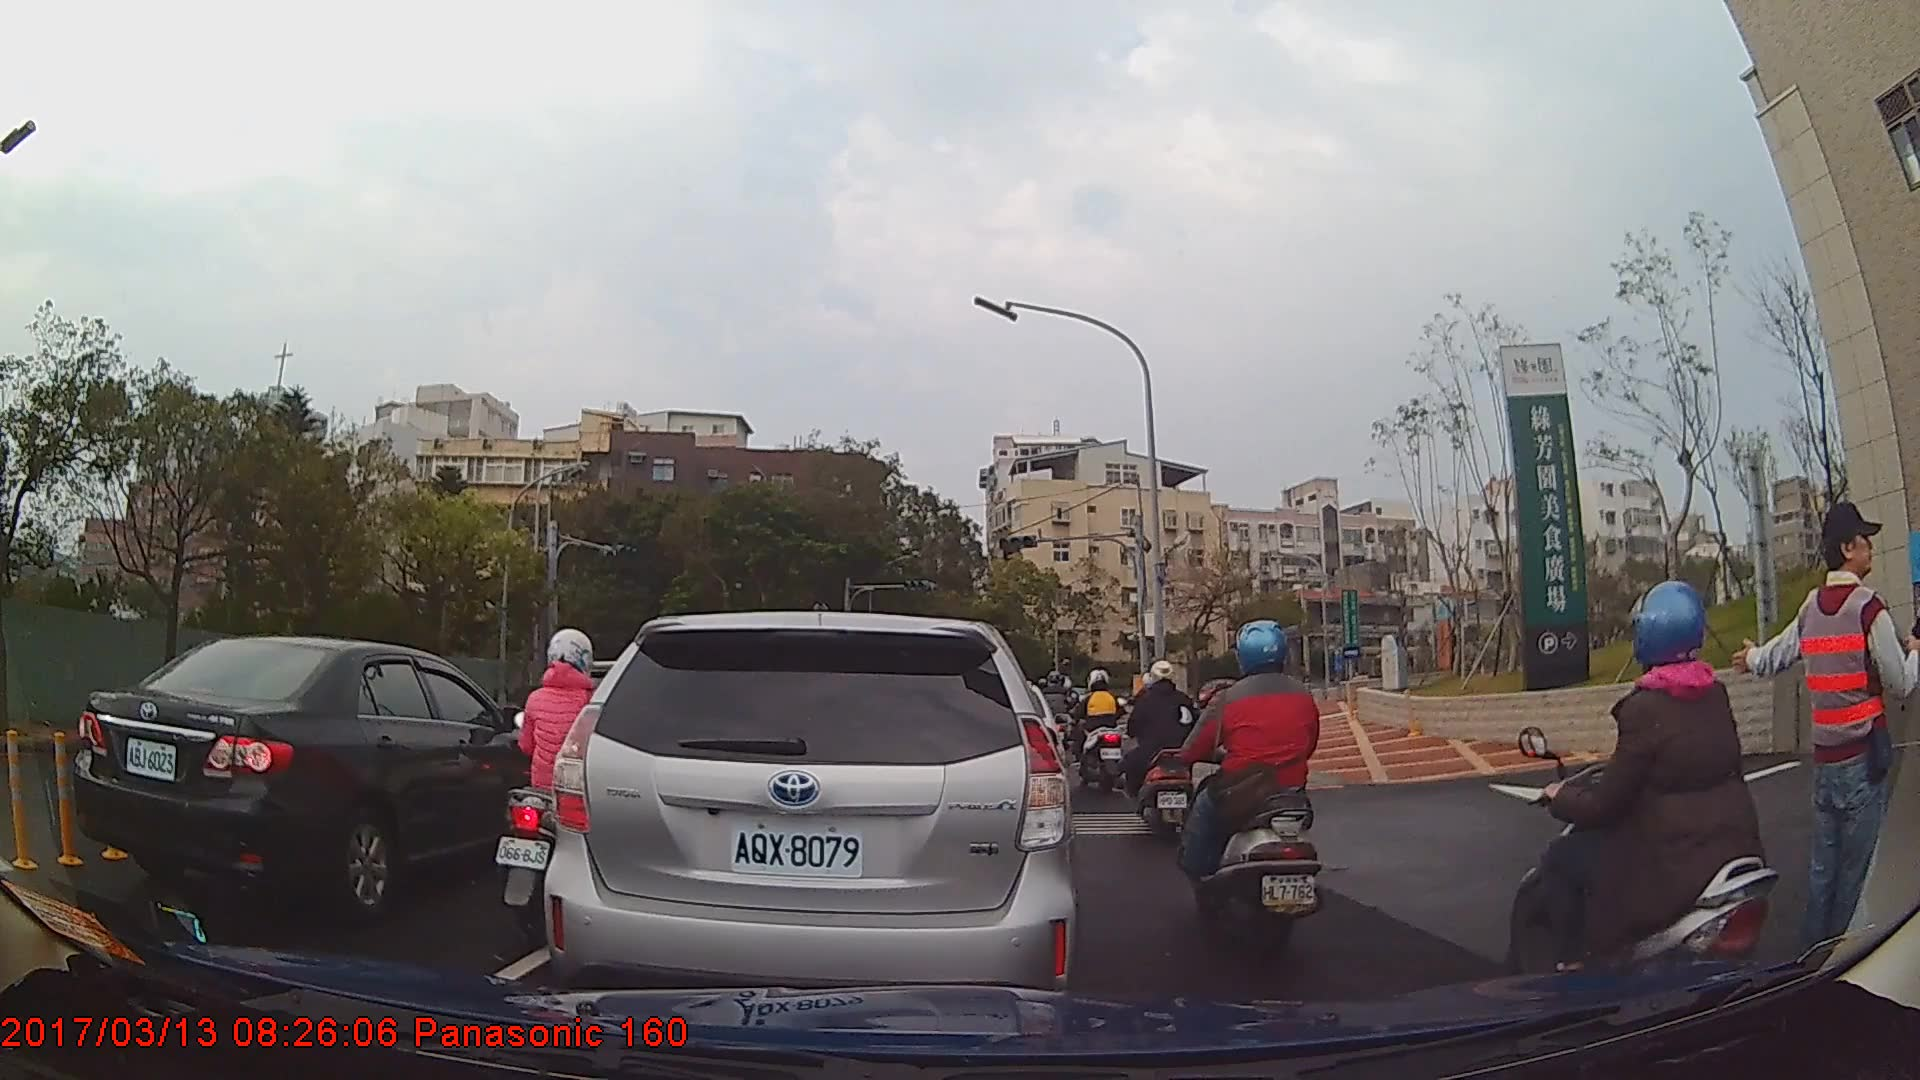pedestrian: (1748, 498, 1919, 979)
rider: (1500, 579, 1783, 1044), (1179, 620, 1326, 957), (497, 627, 642, 936), (1128, 655, 1197, 842), (1078, 667, 1132, 796), (1039, 671, 1076, 761)
vehicle: (546, 609, 1078, 1011), (73, 634, 543, 912)
